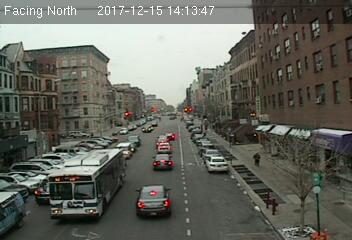bus: (48, 149, 127, 226)
car: (134, 183, 171, 218), (205, 156, 229, 173)
pedestrian: (253, 151, 261, 171)
truck: (1, 191, 24, 235), (151, 153, 173, 169), (157, 142, 171, 152)
